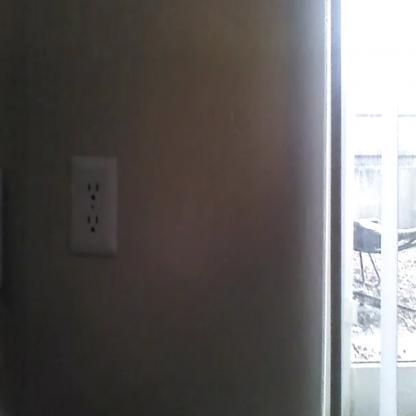OUTLET: (70, 157, 116, 254)
